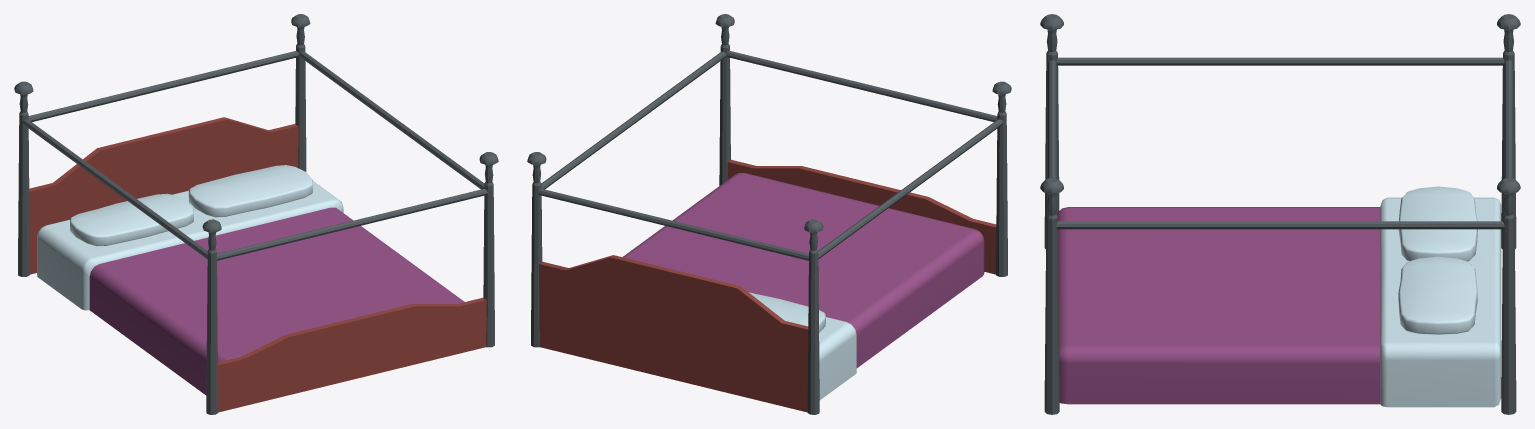
The model's file is Letto_3.fbx.
3 renders of one model, left to right at view 1: azimuth 30°, elevation 25°; view 2: azimuth 150°, elevation 25°; view 3: azimuth 270°, elevation 25°, orthographic. The views are drawn at different scales.
Visible parts, largest first — view 1: Lettto_3; view 2: Lettto_3; view 3: Lettto_3.
Boxes of the visible parts, left/top/right/bottom form: Lettto_3: left=14, top=14, right=498, bottom=414; Lettto_3: left=527, top=14, right=1011, bottom=414; Lettto_3: left=1040, top=14, right=1520, bottom=414.
Size of the model in its own units: 2.34 by 1.45 by 2.73.
